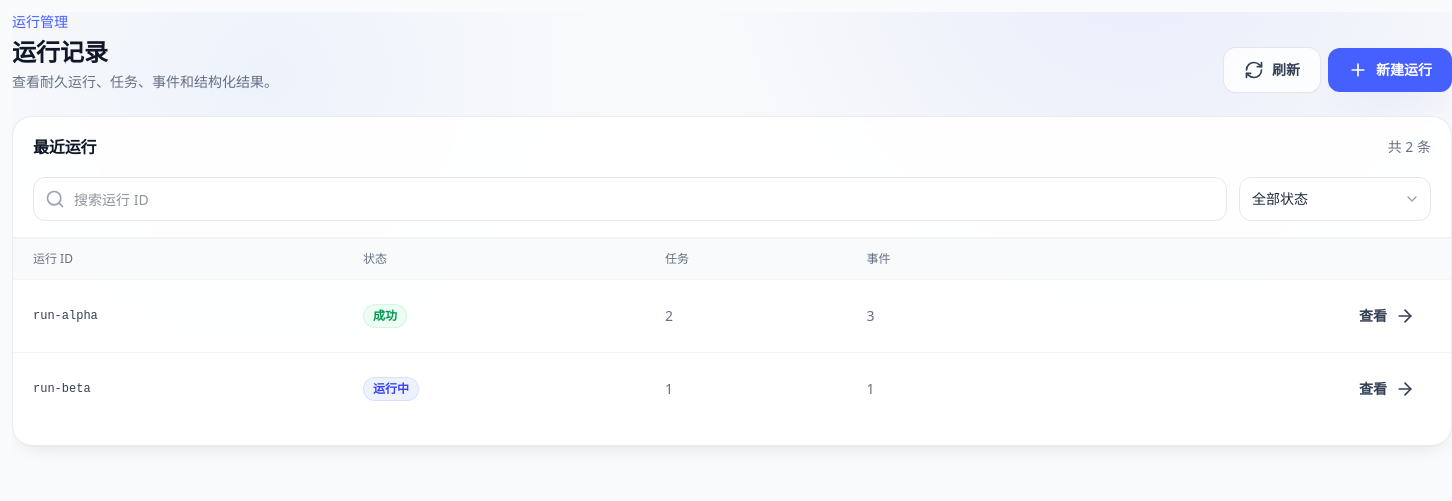
Test case: runs page filters › opens the status filter menu with current options
Expected: the heading "最近运行" is shown, left=33, top=135, right=96, bottom=159
Step 1. Click the button with aria-label "按状态筛选" → (1335, 199), box left=1239, top=177, right=1431, bottom=221
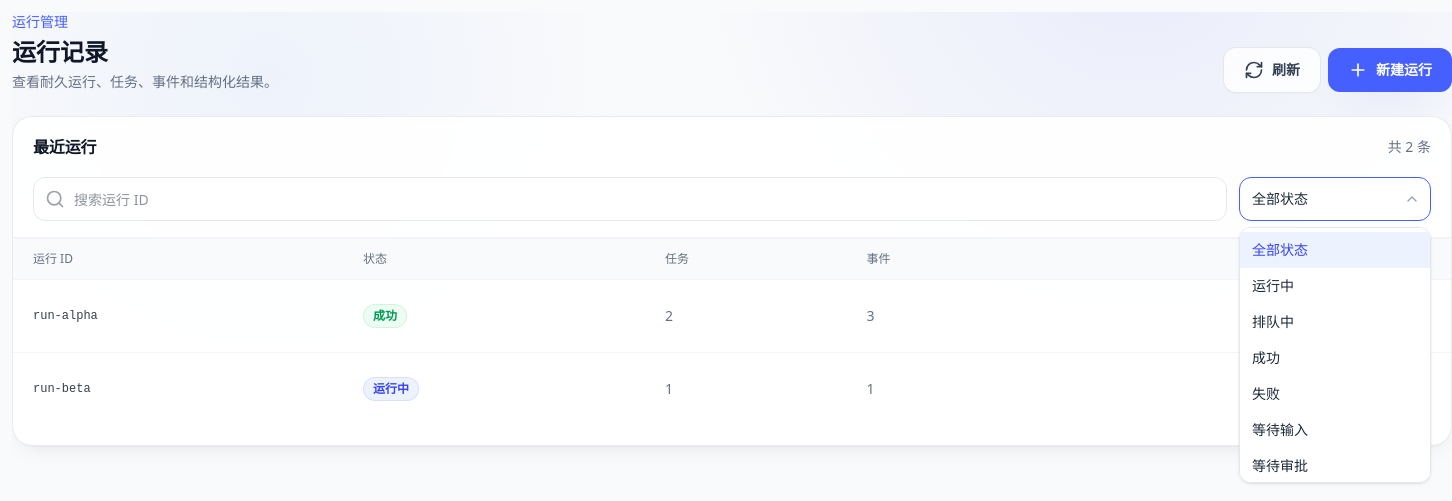
Expected: the button with aria-label "按状态筛选" is expanded, left=1239, top=177, right=1431, bottom=221
Expected: the option "全部状态" is shown, left=1240, top=232, right=1430, bottom=268
Expected: the option "运行中" is shown, left=1240, top=268, right=1430, bottom=304
